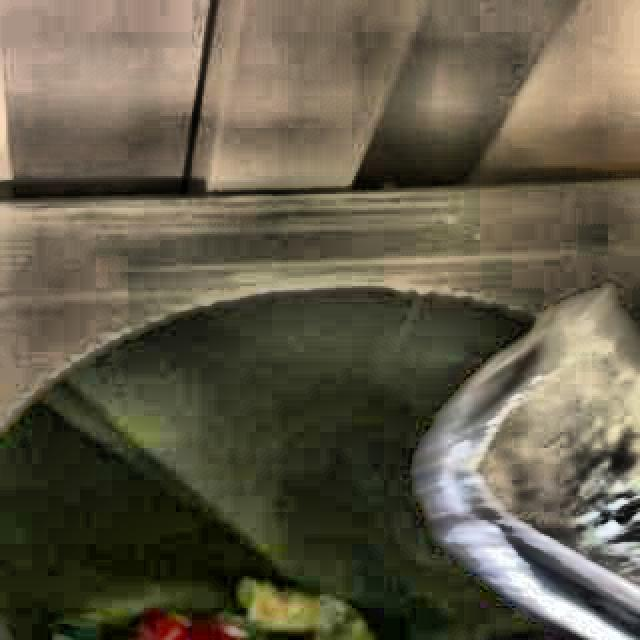metal: (418, 289, 640, 640)
